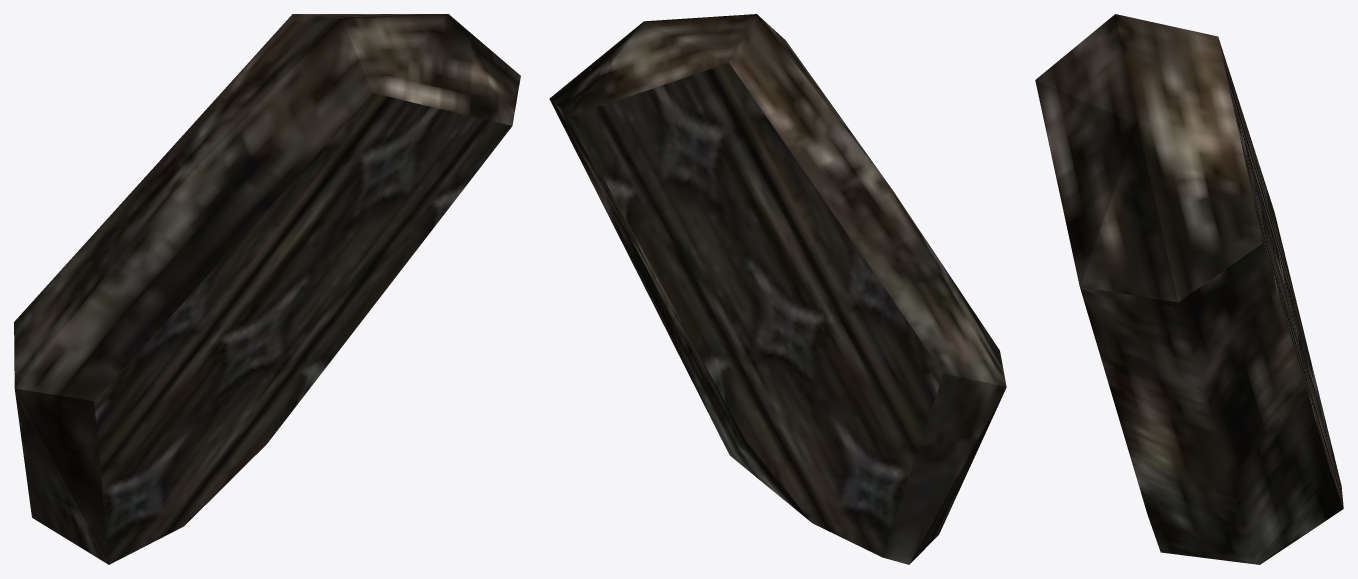
Rendered from sojghmj02.glb.
The picture shows the model from 3 angles, left to right: view 1: azimuth 30°, elevation 25°; view 2: azimuth 150°, elevation 25°; view 3: azimuth 270°, elevation 25°; orthographic projection. The views are drawn at different scales.
Parts seen in each view (by area): view 1: model_sojghmj02; view 2: model_sojghmj02; view 3: model_sojghmj02.
Boxes of the visible parts, left/top/right/bottom form: model_sojghmj02: left=14, top=14, right=520, bottom=564; model_sojghmj02: left=549, top=14, right=1006, bottom=564; model_sojghmj02: left=1035, top=14, right=1343, bottom=564.
Size of the model in its own units: 1.17 by 1.12 by 0.4822.
Materials: 1 (1 with a texture image).
